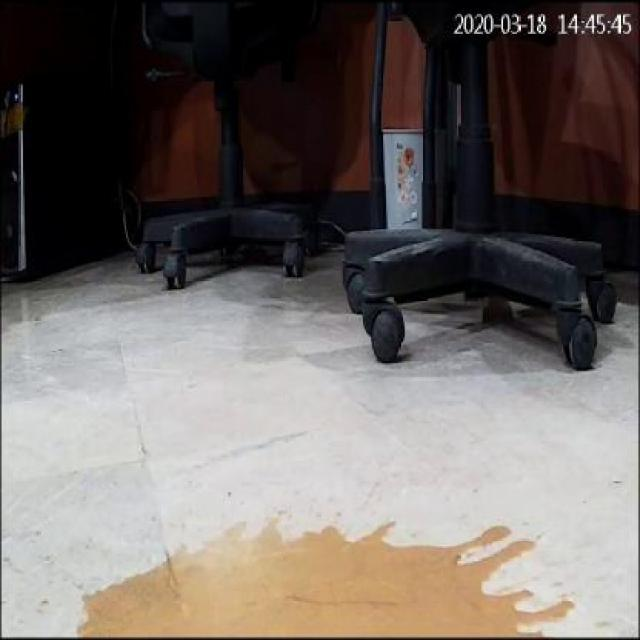spill: (67, 515, 578, 637)
